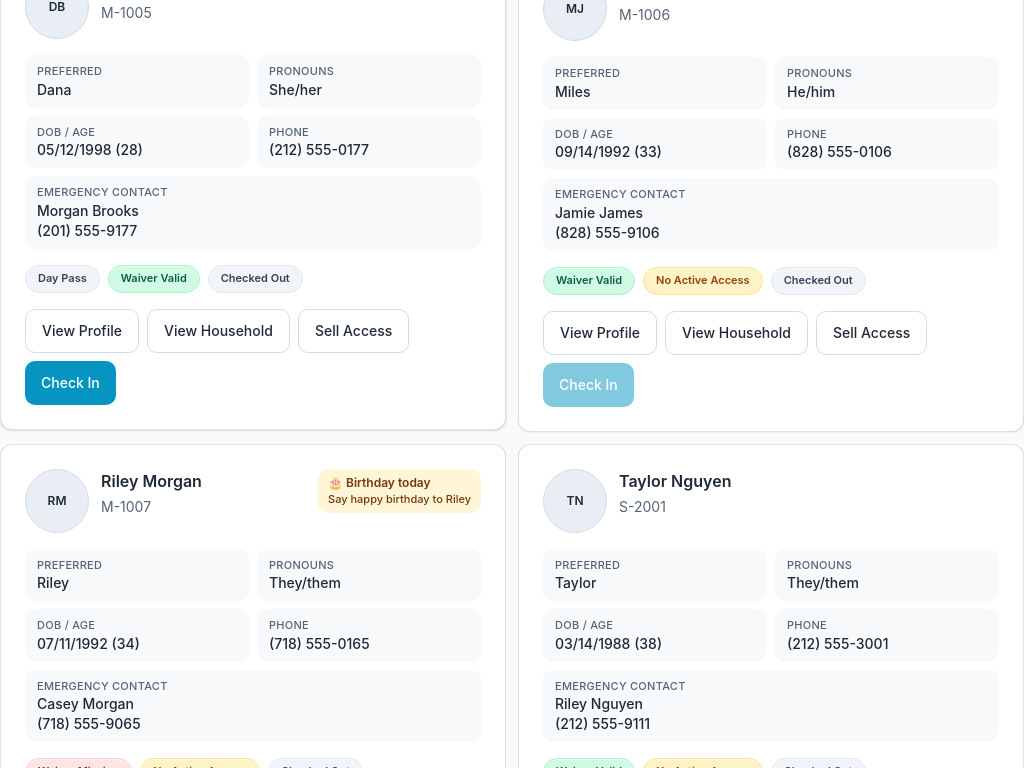
CustomerList › no active staff prompts PIN/staff switch
(page scrolled)
What coordinates should you click on to do the following:
click the button "Check In" below "Day Pass"
I would click on:
 (70, 382)
Its box is [25, 360, 116, 404].
(page scrolled)
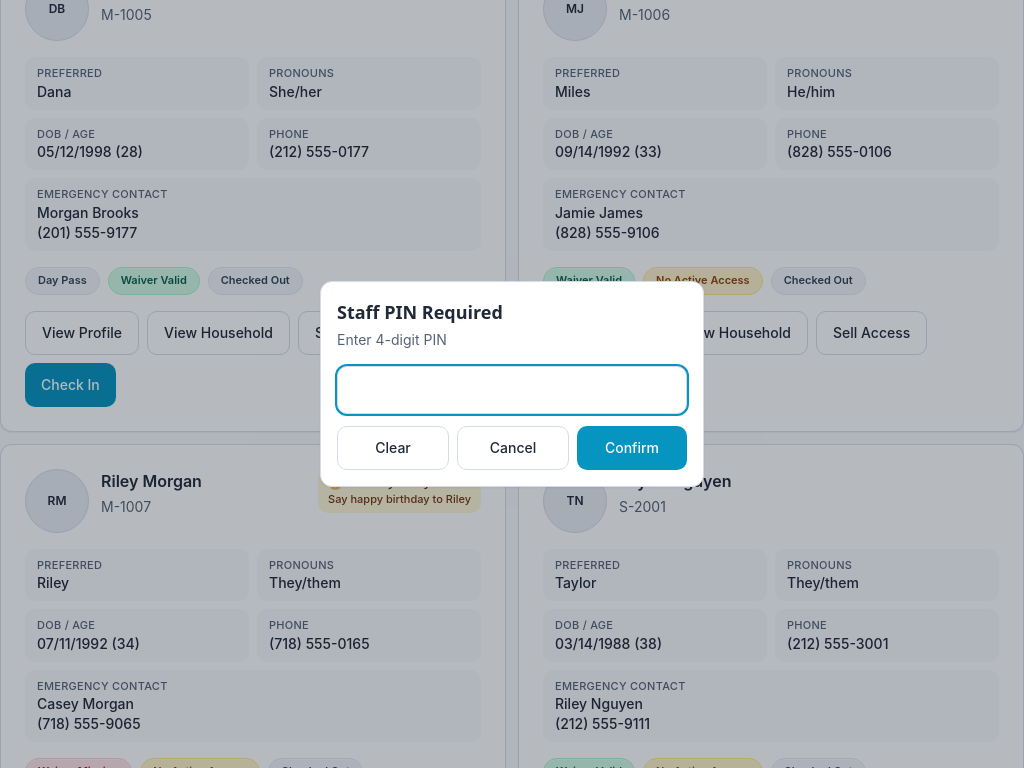
Result: the dialog "Staff PIN" is shown
